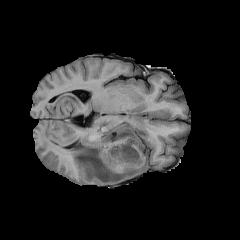glioma: (56, 80, 149, 183)
